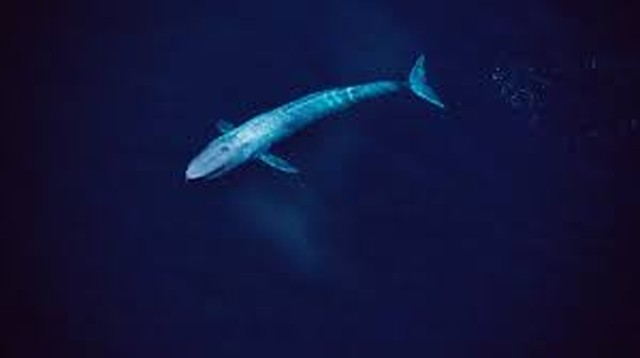whale: (183, 53, 447, 191)
